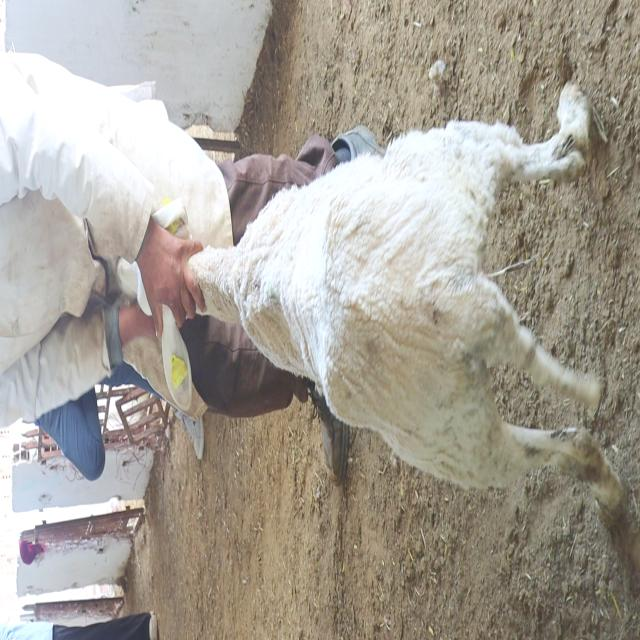Score_1: (189, 84, 624, 526)
